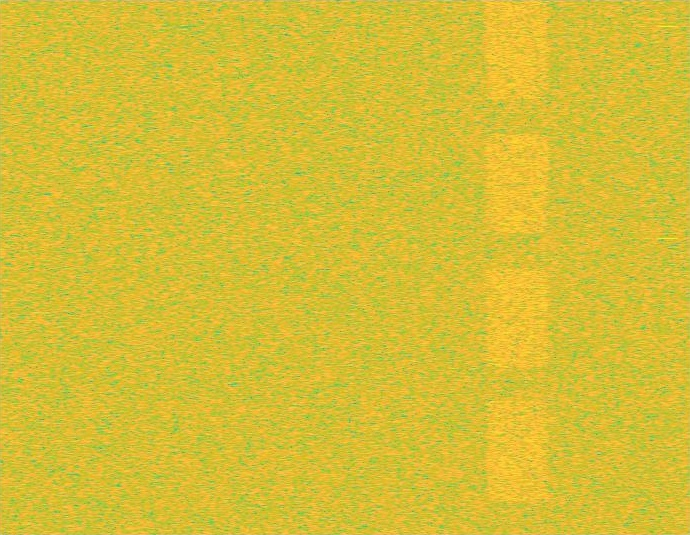5G: (483, 0, 552, 534)
Radar: (660, 0, 674, 534)
